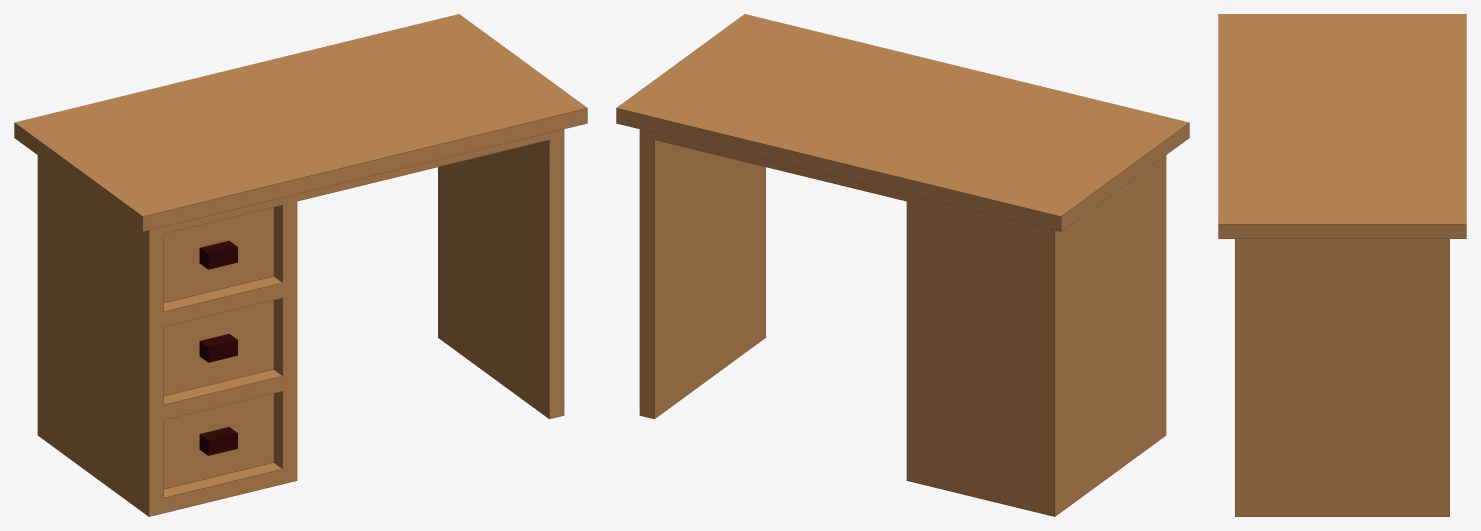
The model's file is teacherTable_15.fbx.
The picture shows the model from 3 angles, left to right: view 1: azimuth 30°, elevation 25°; view 2: azimuth 150°, elevation 25°; view 3: azimuth 270°, elevation 25°; orthographic projection. The views are drawn at different scales.
Visible parts, largest first — view 1: teacherTable_15.001; view 2: teacherTable_15.001; view 3: teacherTable_15.001.
Boxes of the visible parts, bbox=[...] form: teacherTable_15.001: bbox=[14, 14, 587, 516]; teacherTable_15.001: bbox=[616, 14, 1189, 516]; teacherTable_15.001: bbox=[1218, 14, 1466, 516].
Size of the model in its own units: 3 by 2 by 1.5.
Materials: 1 (1 with a texture image).
